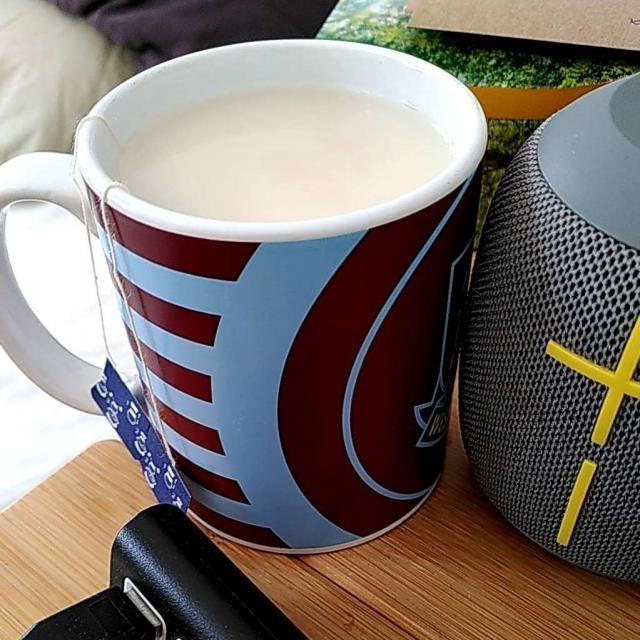tea: (123, 87, 448, 216)
